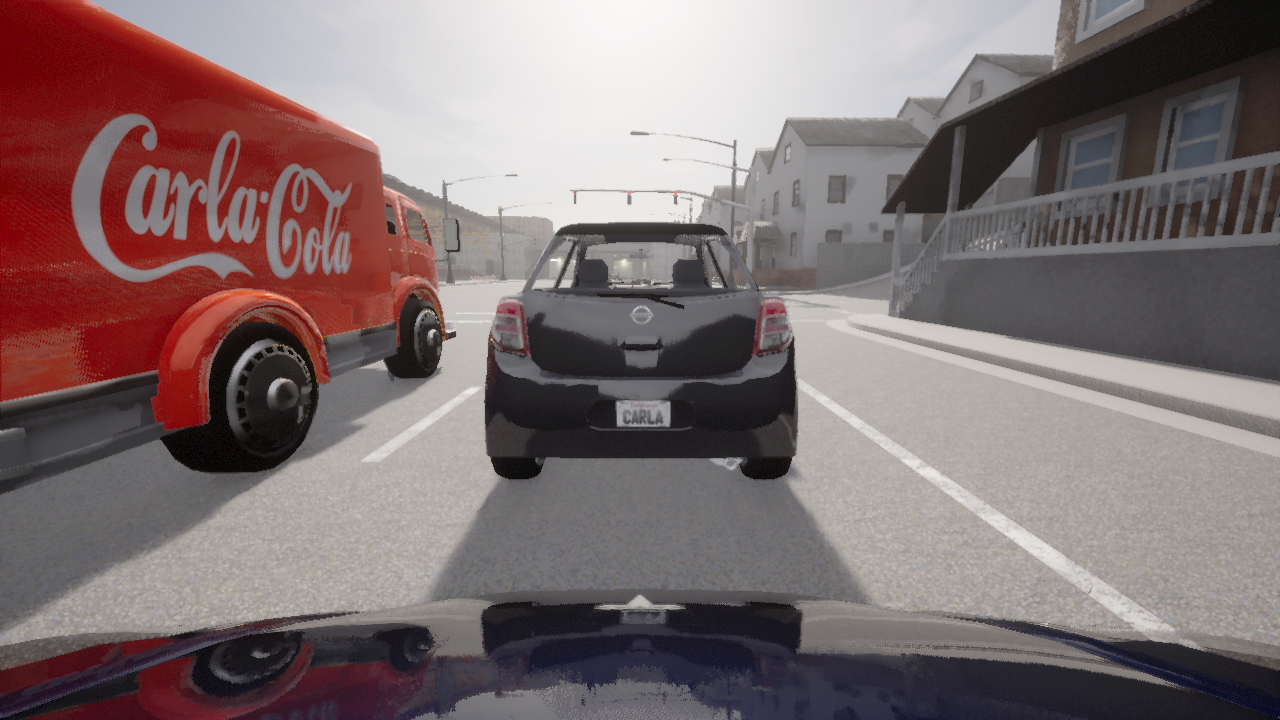cyclist: (0, 588, 1279, 719), (484, 222, 798, 479), (903, 247, 982, 289), (471, 271, 481, 275), (471, 273, 475, 275)
